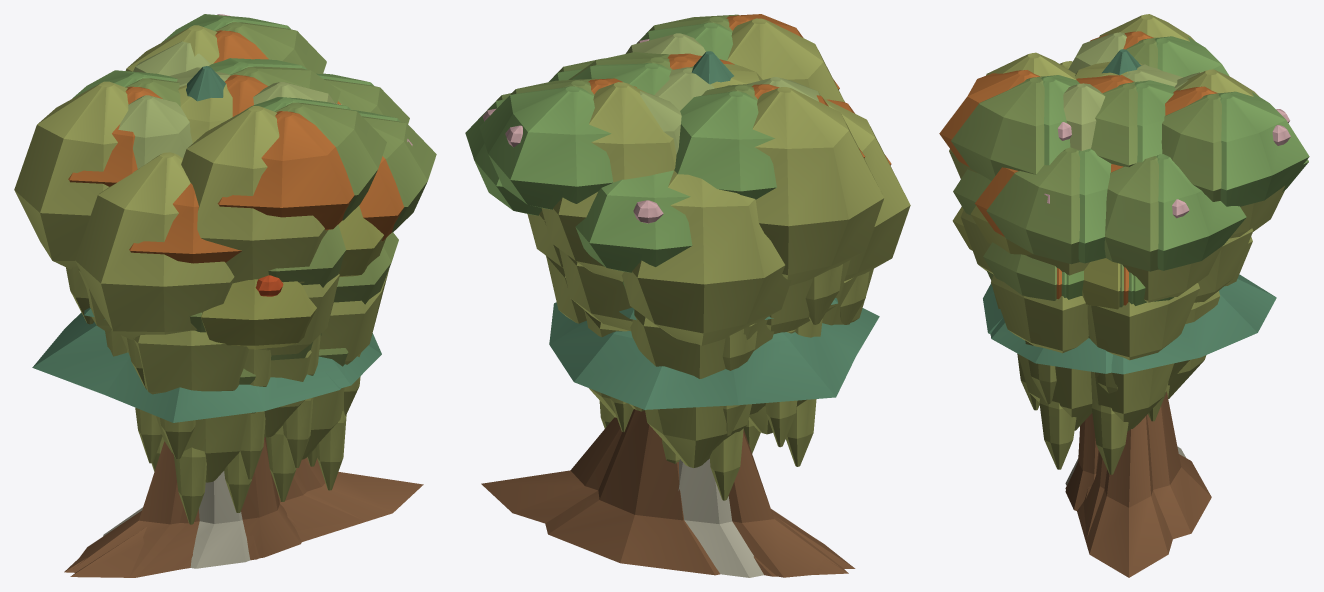
The model's file is moonwood_tree_kit.glb.
The picture shows the model from 3 angles, left to right: view 1: azimuth 30°, elevation 25°; view 2: azimuth 150°, elevation 25°; view 3: azimuth 270°, elevation 25°; orthographic projection. The views are drawn at different scales.
Parts seen in each view (by area): view 1: GEO-willow-large, GEO-maple-large, GEO-oak-large, GEO-willow-small, GEO-willow-standard, GEO-pine-large, GEO-rowan-standard, GEO-birch-large, GEO-oak-standard, GEO-cherry-large, GEO-birch-standard, GEO-pine-small (+2 smaller); view 2: GEO-willow-large, GEO-cherry-large, GEO-pine-large, GEO-willow-standard, GEO-willow-small, GEO-birch-large, GEO-oak-large, GEO-maple-large; view 3: GEO-oak-large, GEO-cherry-large, GEO-willow-standard, GEO-willow-small, GEO-willow-large, GEO-pine-large, GEO-maple-large, GEO-birch-large, GEO-oak-standard, GEO-rowan-standard, GEO-pine-standard, GEO-pine-small (+1 smaller).
Boxes of the visible parts, <box> form: GEO-willow-large: <box>14,25,328,577</box>; GEO-maple-large: <box>68,30,403,577</box>; GEO-oak-large: <box>64,22,436,572</box>; GEO-willow-small: <box>135,350,346,524</box>; GEO-willow-standard: <box>78,269,389,458</box>; GEO-pine-large: <box>32,66,341,422</box>; GEO-rowan-standard: <box>201,205,386,560</box>; GEO-birch-large: <box>103,41,334,536</box>; GEO-oak-standard: <box>190,225,398,557</box>; GEO-cherry-large: <box>72,14,412,145</box>; GEO-birch-standard: <box>190,471,250,568</box>; GEO-pine-small: <box>241,437,301,558</box>; GEO-willow-large: <box>527,18,910,577</box>; GEO-cherry-large: <box>465,22,776,575</box>; GEO-pine-large: <box>549,51,879,409</box>; GEO-willow-standard: <box>546,249,873,435</box>; GEO-willow-small: <box>584,310,816,500</box>; GEO-birch-large: <box>625,33,820,577</box>; GEO-oak-large: <box>471,14,848,576</box>; GEO-maple-large: <box>588,14,891,568</box>; GEO-oak-large: <box>951,37,1221,577</box>; GEO-cherry-large: <box>1041,36,1309,539</box>; GEO-willow-standard: <box>960,210,1253,404</box>; GEO-willow-small: <box>993,289,1219,474</box>; GEO-willow-large: <box>949,14,1284,302</box>; GEO-pine-large: <box>983,49,1276,374</box>; GEO-maple-large: <box>939,31,1217,537</box>; GEO-birch-large: <box>1063,32,1202,457</box>; GEO-oak-standard: <box>953,169,1123,499</box>; GEO-rowan-standard: <box>952,205,1120,489</box>; GEO-pine-standard: <box>990,318,1112,373</box>; GEO-pine-small: <box>1065,413,1098,510</box>.
Size of the model in its own units: 3.31 by 3.84 by 3.
